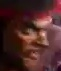ryu: (3, 6, 50, 69)
